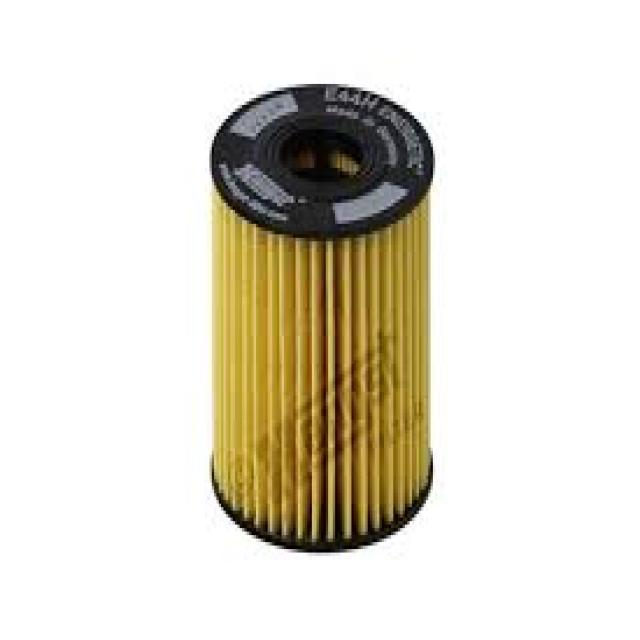oil_filter: (206, 67, 434, 561)
